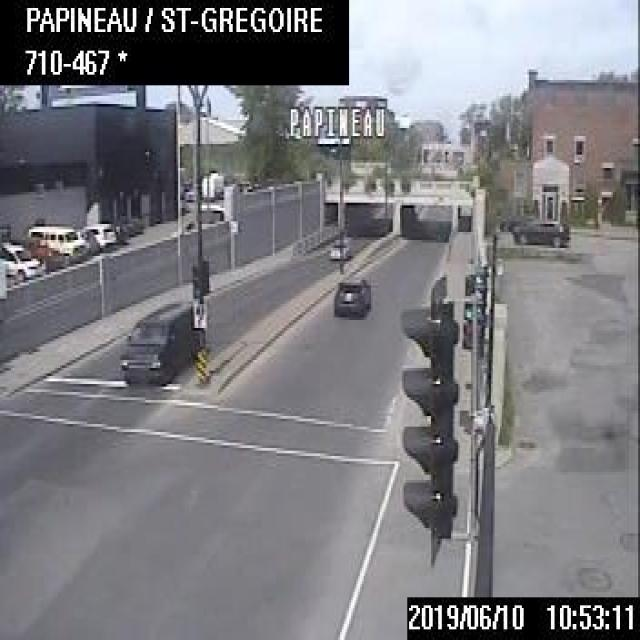vehicle: (120, 296, 195, 384), (29, 221, 85, 259), (0, 237, 44, 283), (513, 214, 568, 244), (16, 236, 59, 271), (333, 274, 369, 314), (80, 221, 118, 250), (329, 237, 349, 259)
